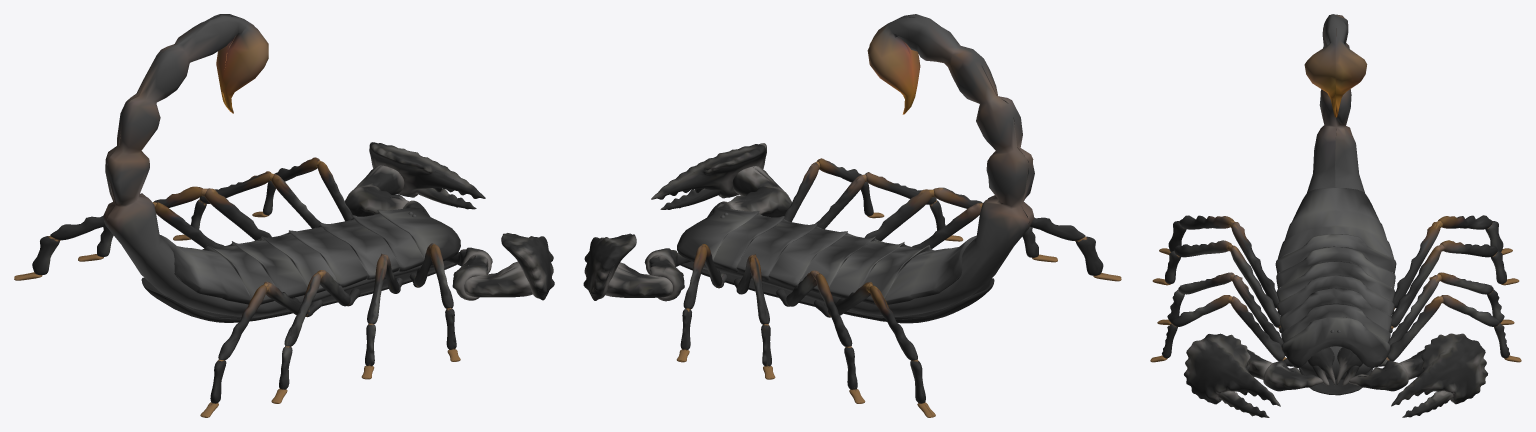
Rendered from scorpion.glb.
3 views of the same model, side by side, from view 1: azimuth 30°, elevation 25°; view 2: azimuth 150°, elevation 25°; view 3: azimuth 270°, elevation 25° (orthographic). The views are drawn at different scales.
Parts seen in each view (by area): view 1: scorpion; view 2: scorpion; view 3: scorpion.
Boxes of the visible parts, box(x1,y1,x2,y2) form: scorpion: box(14, 14, 554, 417); scorpion: box(583, 14, 1121, 417); scorpion: box(1150, 14, 1521, 417).
Size of the model in its own units: 1.35 by 0.9638 by 1.15.
